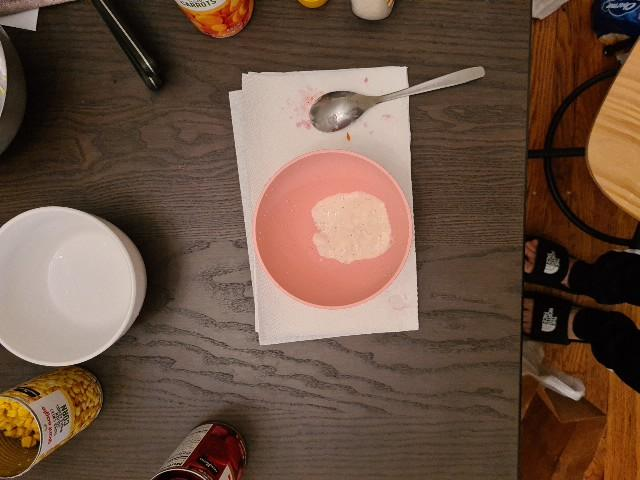kichen waste: (312, 193, 391, 262)
